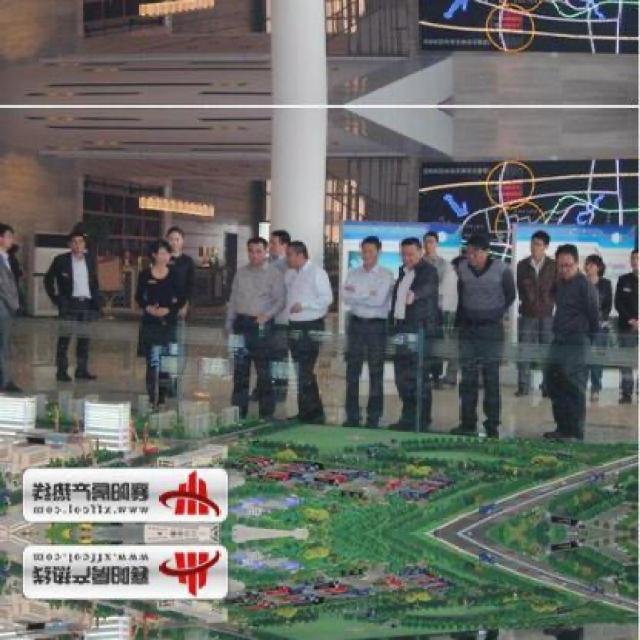sin casco: (364, 242, 424, 298), (412, 226, 484, 272), (324, 230, 397, 273), (542, 238, 601, 289), (227, 238, 274, 288), (510, 226, 555, 278), (270, 234, 332, 270), (47, 226, 103, 263), (376, 232, 418, 278), (137, 250, 166, 280)
